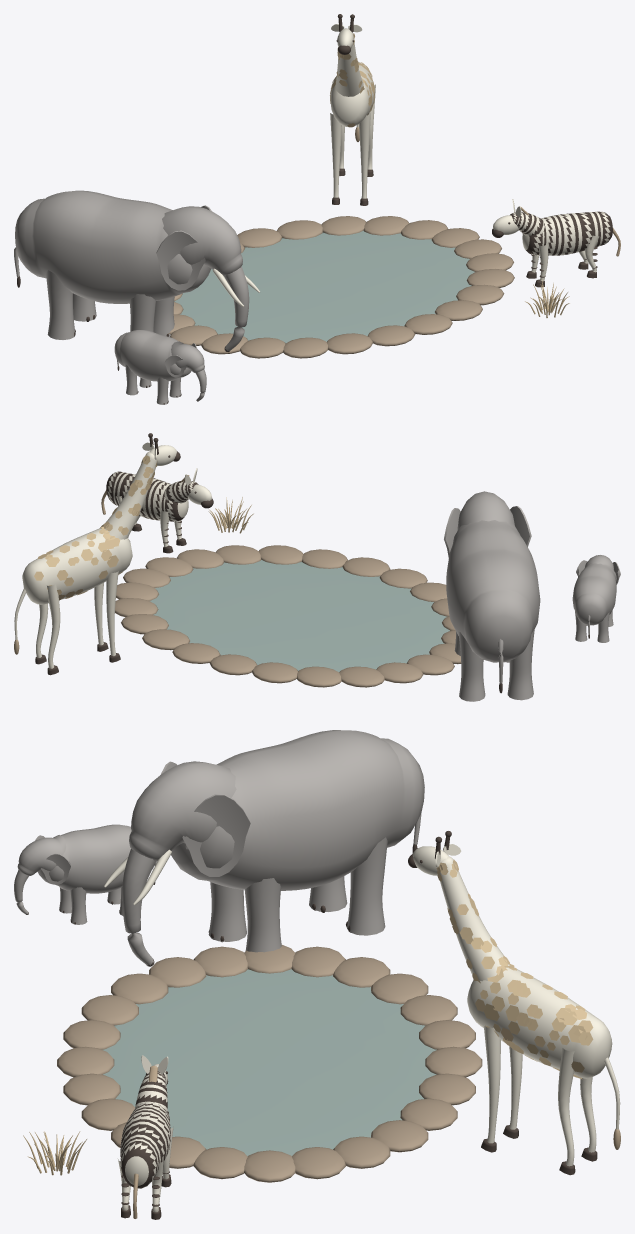
File: savanna-wildlife-savanna-waterhole-study-d7202c9c-starter-scene__6568.glb
3 renders of one model, top to bottom at view 1: azimuth 30°, elevation 25°; view 2: azimuth 150°, elevation 25°; view 3: azimuth 270°, elevation 25°, orthographic. The views are drawn at different scales.
Parts seen in each view (by area): view 1: 001-african-elephant-bull/0, 000-waterhole-pan/0, 000-waterhole-pan/1, 004-elephant-calf/0, 003-plains-zebra/0, 003-plains-zebra/1, 002-reticulated-giraffe/2, 002-reticulated-giraffe/0, 002-reticulated-giraffe/1, 005-dry-grass-tussock/0; view 2: 000-waterhole-pan/0, 001-african-elephant-bull/0, 000-waterhole-pan/1, 002-reticulated-giraffe/0, 004-elephant-calf/0, 002-reticulated-giraffe/2, 002-reticulated-giraffe/1, 003-plains-zebra/0, 003-plains-zebra/1, 005-dry-grass-tussock/0; view 3: 001-african-elephant-bull/0, 000-waterhole-pan/0, 000-waterhole-pan/1, 002-reticulated-giraffe/0, 004-elephant-calf/0, 002-reticulated-giraffe/1, 002-reticulated-giraffe/2, 003-plains-zebra/0, 003-plains-zebra/1, 005-dry-grass-tussock/0, 001-african-elephant-bull/2.
Boxes of the visible parts, x1,y1,x2,y2 form: 001-african-elephant-bull/0: (14,190,249,351); 000-waterhole-pan/0: (174,230,474,343); 000-waterhole-pan/1: (168,216,514,358); 004-elephant-calf/0: (114,330,206,404); 003-plains-zebra/0: (493,199,610,281); 003-plains-zebra/1: (510,211,612,277); 002-reticulated-giraffe/2: (330,24,375,198); 002-reticulated-giraffe/0: (330,32,374,126); 002-reticulated-giraffe/1: (330,33,374,127); 005-dry-grass-tussock/0: (525,279,569,317); 000-waterhole-pan/0: (150,560,449,672); 001-african-elephant-bull/0: (444,491,540,701); 000-waterhole-pan/1: (115,545,461,687); 002-reticulated-giraffe/0: (22,451,156,604); 004-elephant-calf/0: (572,555,620,642); 002-reticulated-giraffe/2: (14,442,176,668); 002-reticulated-giraffe/1: (34,455,157,600); 003-plains-zebra/0: (107,468,211,546); 003-plains-zebra/1: (106,471,198,543); 005-dry-grass-tussock/0: (208,497,253,533); 001-african-elephant-bull/0: (122,730,424,965); 000-waterhole-pan/0: (102,969,436,1156); 000-waterhole-pan/1: (57,945,482,1182); 002-reticulated-giraffe/0: (440,856,612,1078); 004-elephant-calf/0: (14,824,156,924); 002-reticulated-giraffe/1: (436,859,593,1079); 002-reticulated-giraffe/2: (413,844,620,1166); 003-plains-zebra/0: (117,1055,173,1212); 003-plains-zebra/1: (120,1071,170,1206); 005-dry-grass-tussock/0: (23,1131,86,1175); 001-african-elephant-bull/2: (104,849,171,905).
Bounding box in the file's own units: 13.43 × 5.27 × 9.9.
